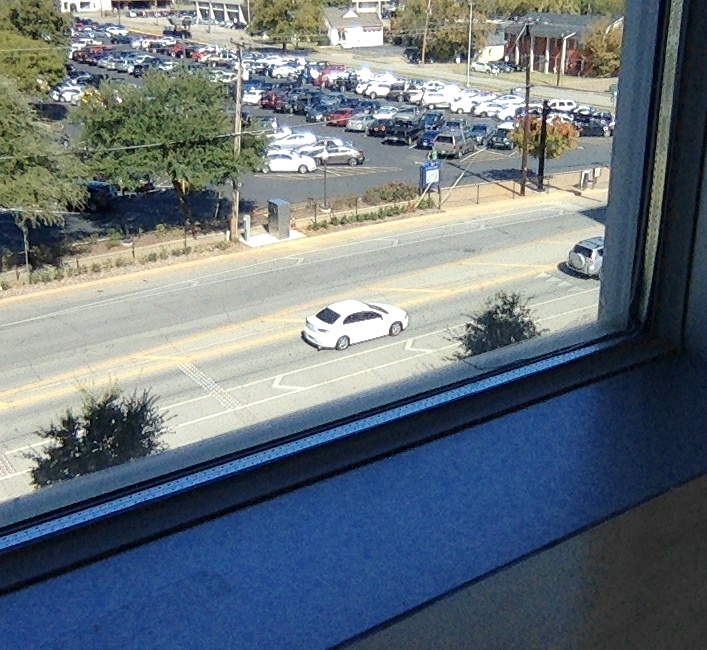car: (300, 300, 407, 350)
